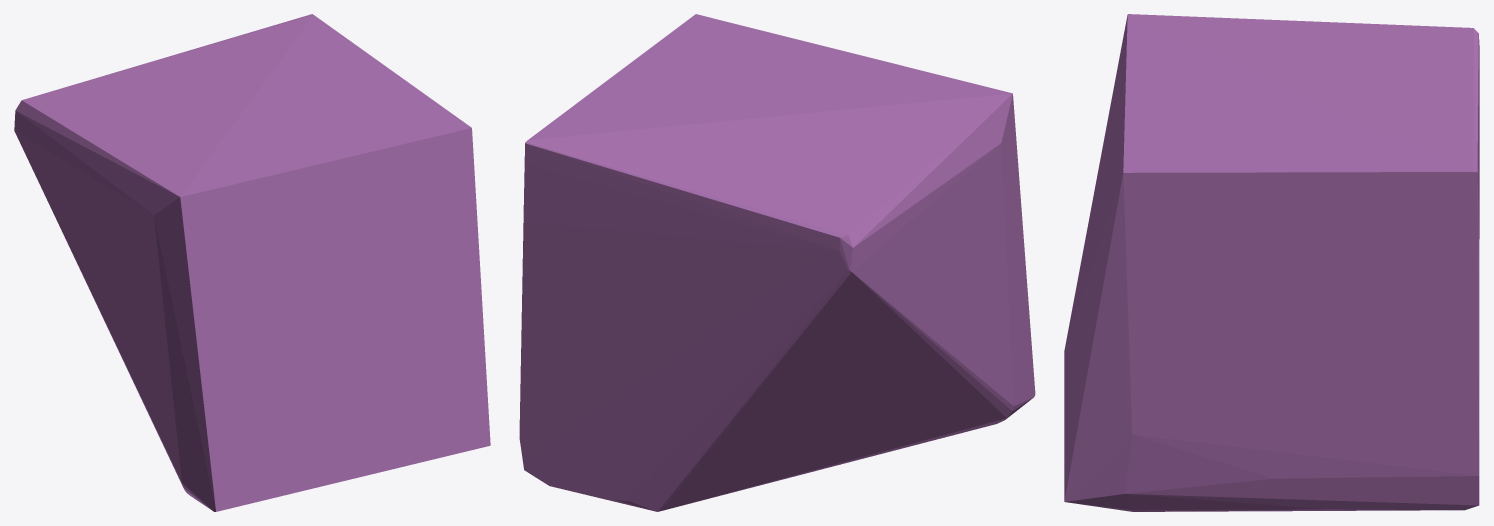
Rendered from screen_hospital_b05.glb.
3 views of the same model, side by side, from view 1: azimuth 30°, elevation 25°; view 2: azimuth 150°, elevation 25°; view 3: azimuth 270°, elevation 25° (orthographic). The views are drawn at different scales.
Parts seen in each view (by area): view 1: geometry_0; view 2: geometry_0; view 3: geometry_0.
Boxes of the visible parts, x1,y1,x2,y2 form: geometry_0: [14, 14, 490, 511]; geometry_0: [519, 14, 1035, 511]; geometry_0: [1064, 14, 1479, 511].
Bounding box in the file's own units: 0.4524 × 0.4412 × 0.4799.
